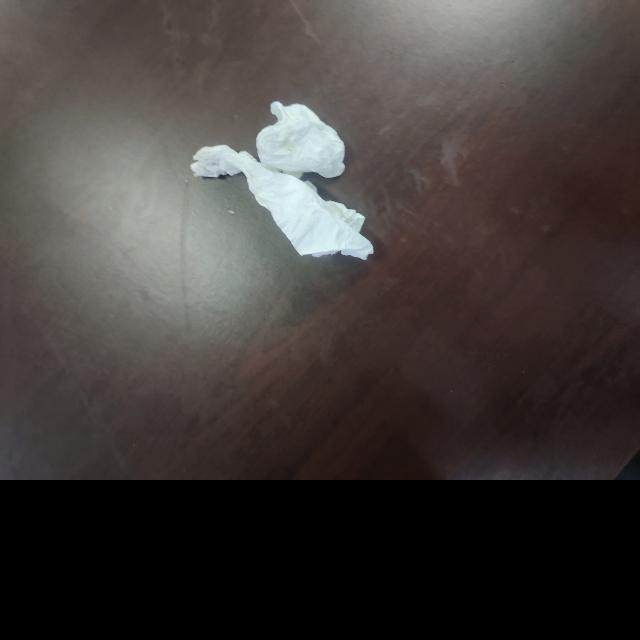kitchen paper: (188, 140, 378, 264), (255, 98, 350, 182)
